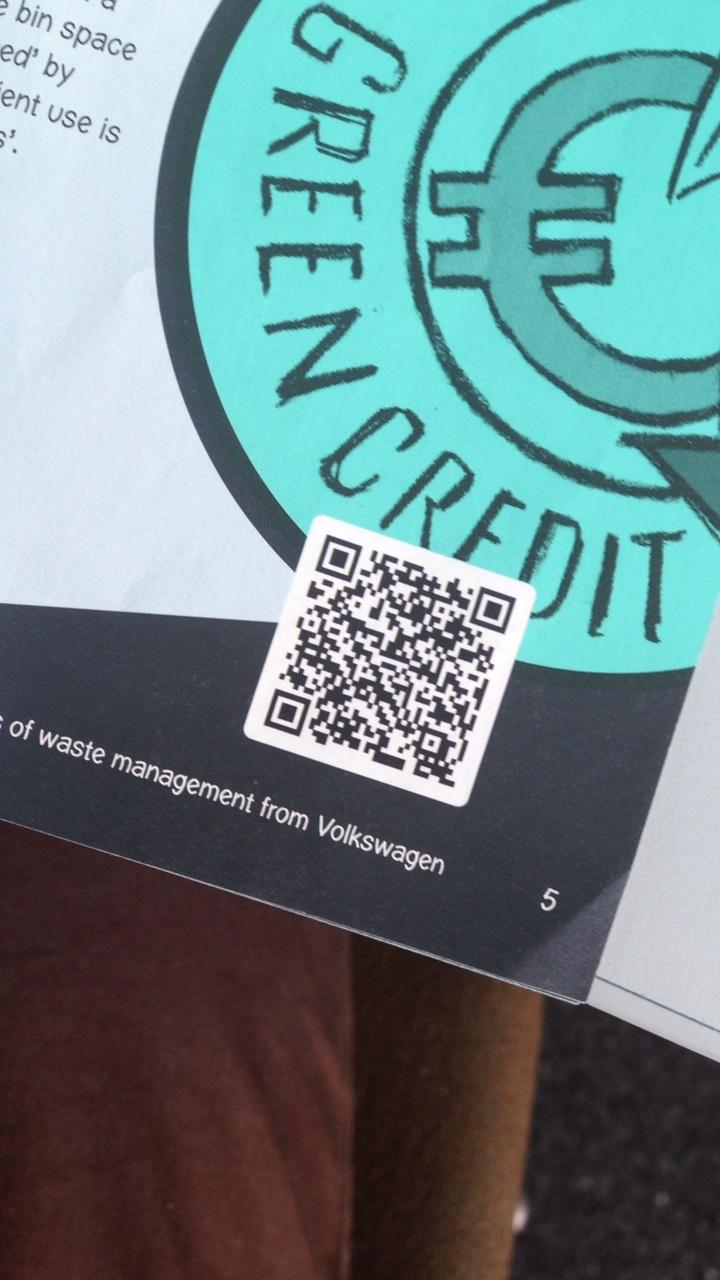Finder pattern: (312, 530, 364, 585), (466, 583, 518, 636), (262, 685, 312, 737)
